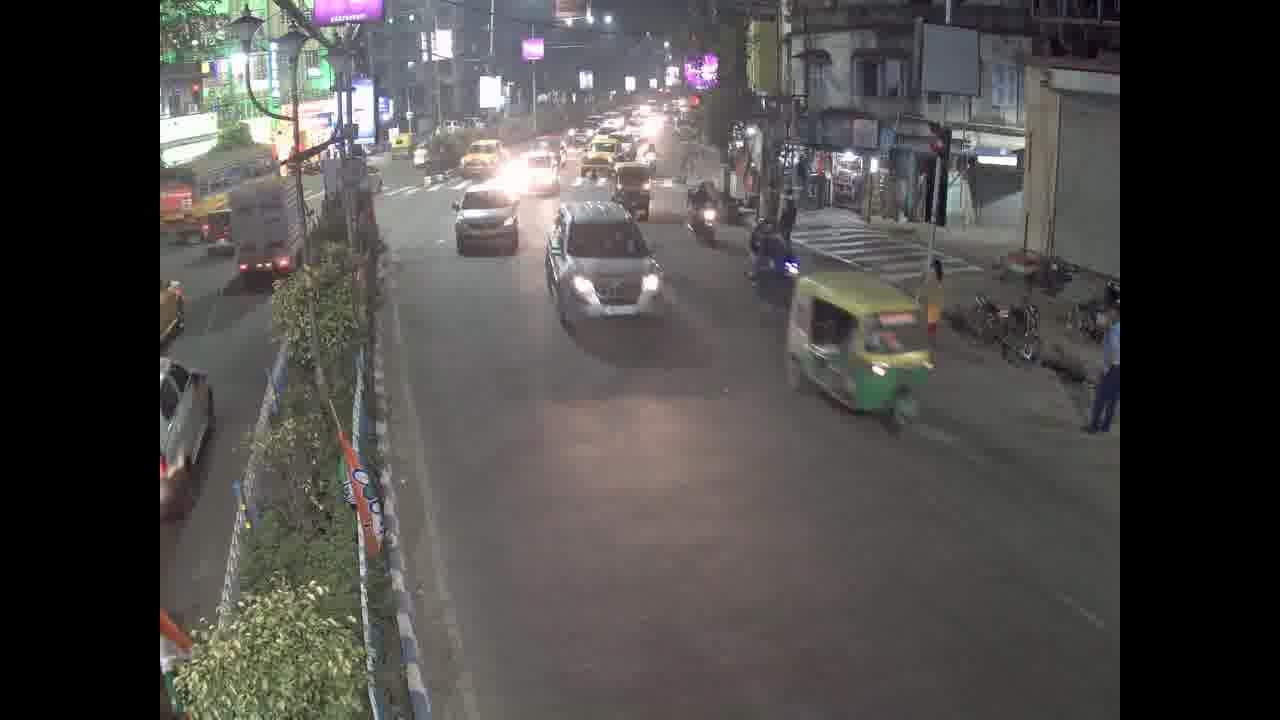auto-rickshaw: (787, 266, 937, 441), (610, 160, 655, 221)
bike: (957, 306, 1050, 357), (745, 253, 801, 302), (685, 205, 721, 252)
car: (555, 206, 655, 326), (457, 187, 519, 246), (461, 139, 510, 178), (515, 150, 559, 185)
person: (917, 253, 945, 332), (773, 183, 801, 234)
